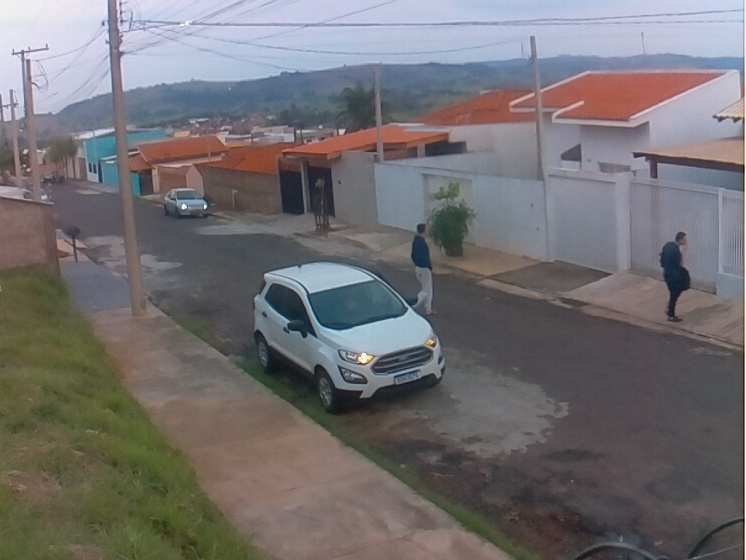person: (659, 231, 694, 323), (409, 222, 440, 316)
